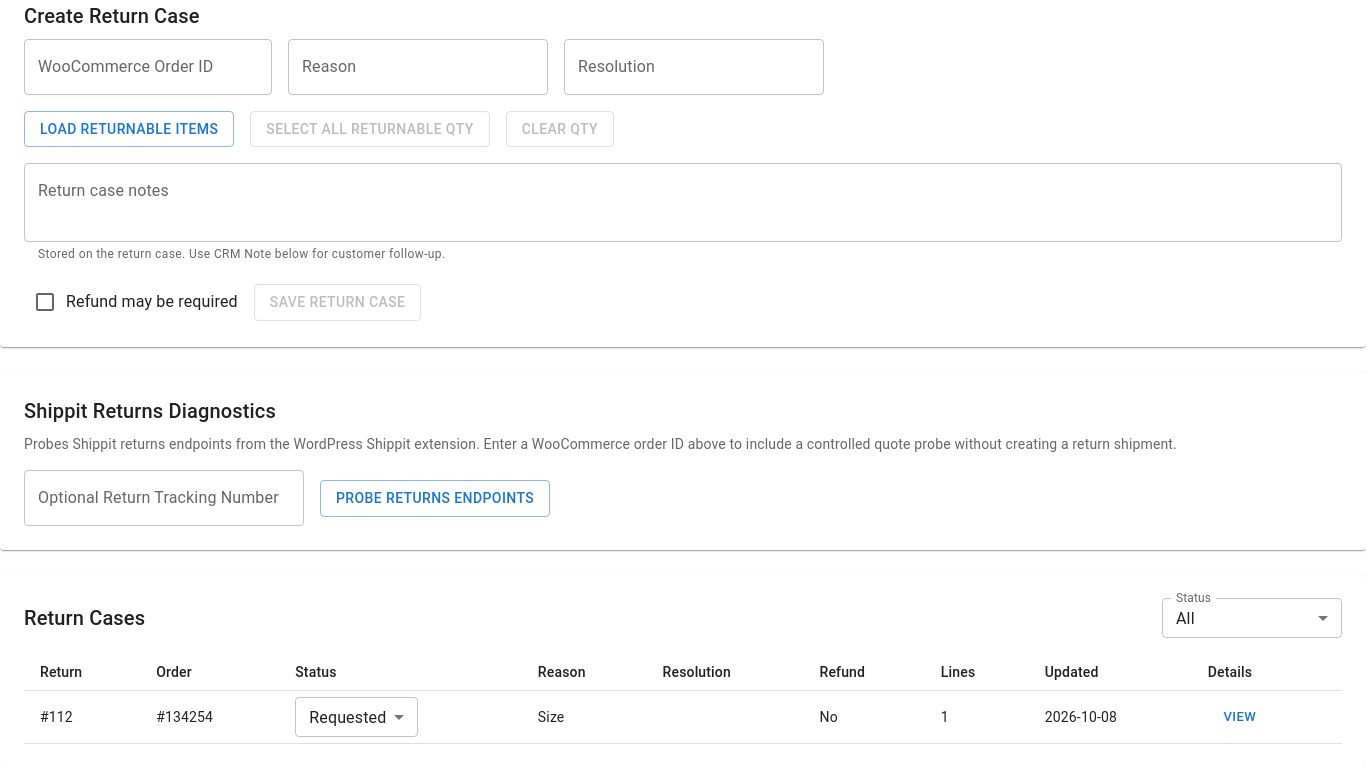
Test: ReturnsPage Shippit workflow › does not offer a second shipment when a Requested case already has live tracking
The image size is (1366, 766).
(page scrolled)
Expected: the text "#112" is shown, [24,691,140,744]
Click the button "View": coordinates (1240, 717) [1208,702,1272,733]
(page scrolled)
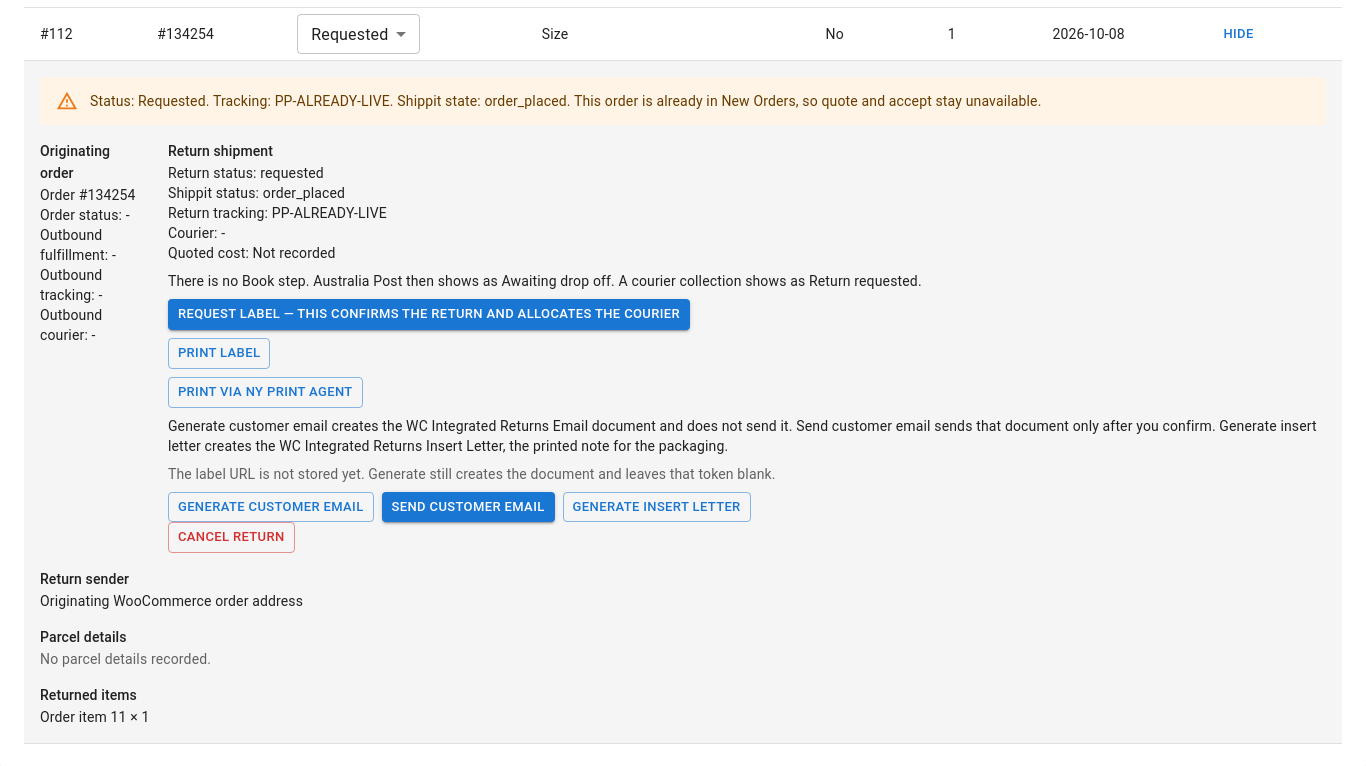
Expected: the text "This order is already in New Orders, so quote and accept stay unavailable" is shown, [567,93,1042,109]
Expected: the text "Shippit state: order_placed" is shown, [90,93,1042,109]
Expected: the button "Request label — this confirms the return and allocates the courier" is enabled, [168,299,690,330]
Click the button "Print via NY Print Agent": coordinates (265, 392) [168,377,363,408]
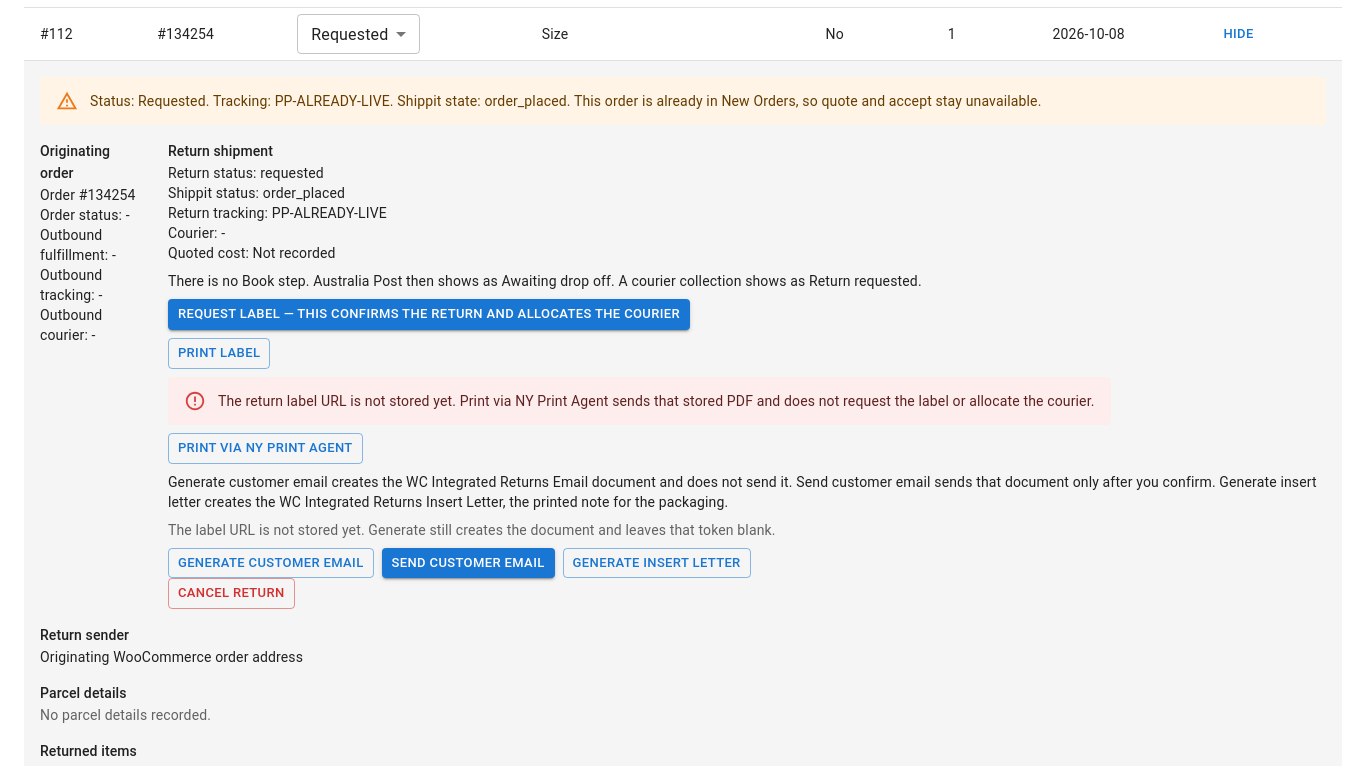
Expected: the text "does not request the label or allocate the courier" is shown, [218,393,1095,409]
